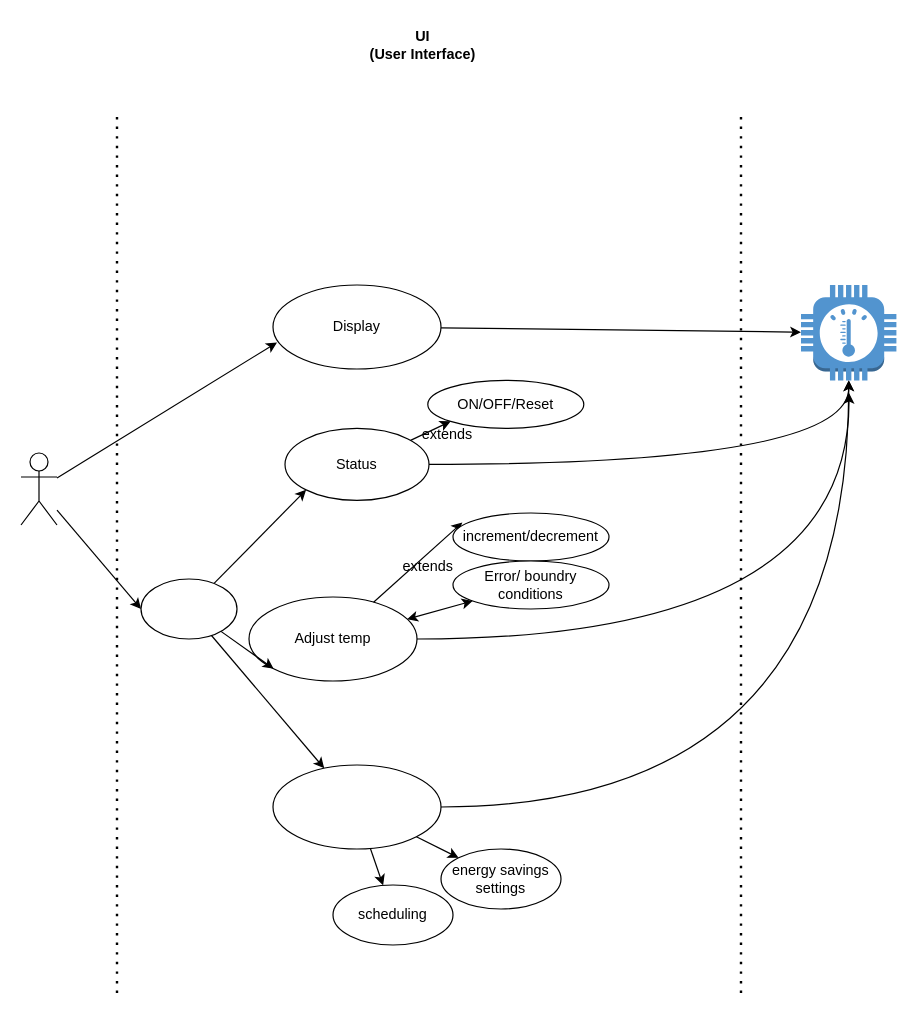
Image size: 918x1015. Some labels were removed from this diagram. Here are the shapes that lost their labels. From the top down, the box of each, then its label:
(800, 284, 896, 380): thermostat
(20, 452, 57, 525): Actor
(140, 578, 237, 639): Access
(272, 764, 441, 849): Presets
